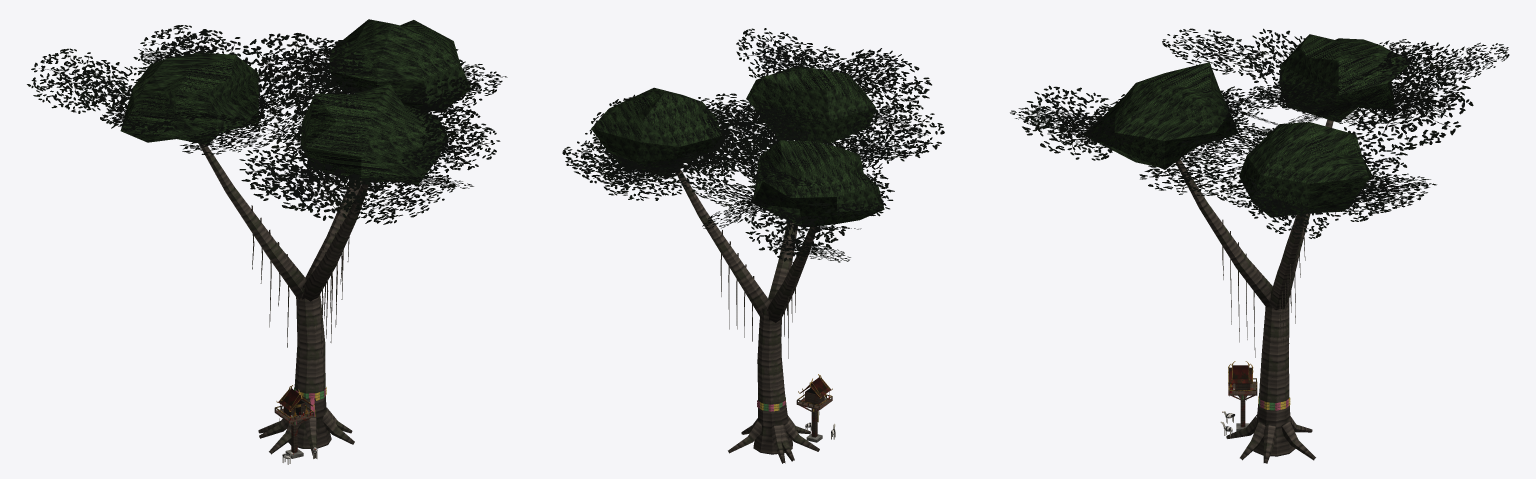
File: shrine.glb
3 renders of one model, left to right at view 1: azimuth 30°, elevation 25°; view 2: azimuth 150°, elevation 25°; view 3: azimuth 270°, elevation 25°, orthographic. The views are drawn at different scales.
Visible parts, largest first — view 1: shrine_tree, shrine_house; view 2: shrine_tree, shrine_house; view 3: shrine_tree, shrine_house.
Part boxes in pixels (<box>): shrine_tree: <box>27,19,507,458</box>; shrine_house: <box>274,385,317,464</box>; shrine_tree: <box>562,28,944,463</box>; shrine_house: <box>796,374,835,442</box>; shrine_tree: <box>1010,28,1509,463</box>; shrine_house: <box>1220,361,1257,436</box>.
Bounding box in the file's own units: 12.72 × 11.56 × 14.78.
Materials: 12 (12 with a texture image).
